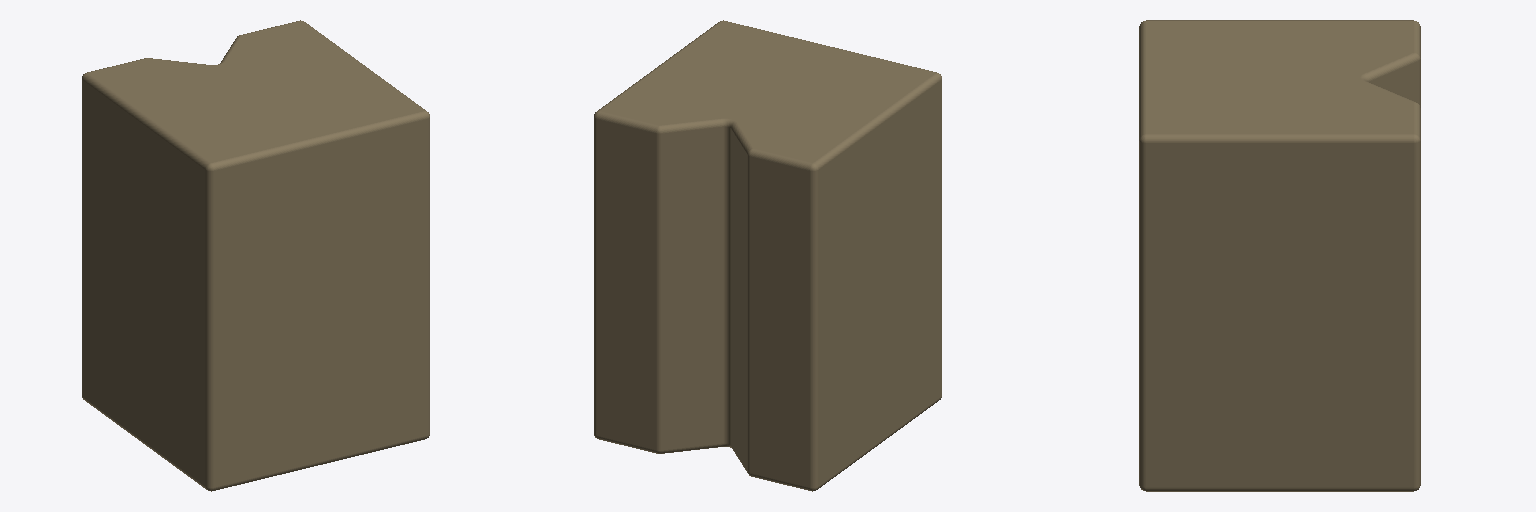
The robot description file, URDF, robot "V_Block":
<?xml version="1.0"?>
<robot name="V_Block">
  <link name="base_link">
    <visual>
      <origin xyz="0 0 0" rpy="0 0 0" />
      <geometry>
        <mesh filename="V_Block.obj"/>      
      </geometry>
      <material name="tan">
        <color rgba="0.55 0.5 0.4 1"/>
      </material>
    </visual>
    <collision>
      <origin xyz="0 0 0" rpy="0 0 0" />
      <geometry>
        <mesh filename="V_Block.obj"/>
      </geometry>
    </collision>
  </link>
</robot>

--- Render facts (derived) ---
The picture shows the robot from 3 angles, left to right: view 1: azimuth 30°, elevation 25°; view 2: azimuth 150°, elevation 25°; view 3: azimuth 270°, elevation 25°; orthographic projection.
Model V_Block with 1 links and 0 joints (none), rooted at base_link, posed every joint at zero.
Links seen in each view (by area): view 1: base_link; view 2: base_link; view 3: base_link.
Link boxes in pixels (x1,y1,x2,y2): base_link: (82, 20, 429, 491); base_link: (594, 20, 941, 491); base_link: (1139, 20, 1420, 491).
Size in the robot's own frame: 23.81 by 23.81 by 33.34 metres.
1 mesh visuals loaded from 1 distinct referenced files (1 OBJ).
